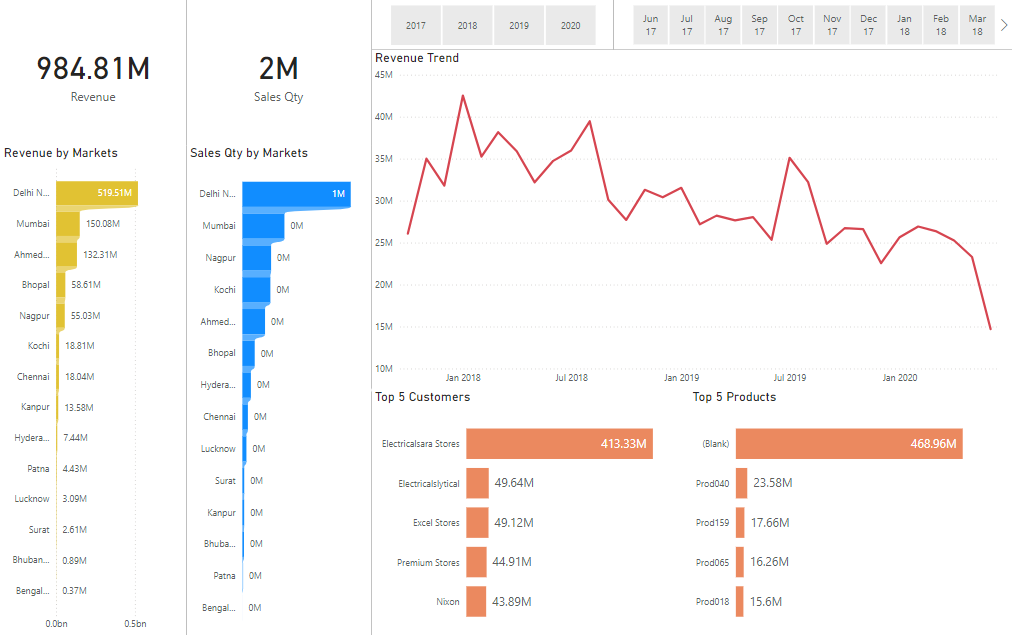

This screenshot's page, from the dashboard's own definition file:
{"tool":"powerbi","page":{"name":"Page 1","canvas":[1350,850],"ordinal":0},"visuals":[{"type":"card","fields":{"Values":["BaseMeasures (2).Revenue"]},"box":[0,0,248.3,193.3],"z":0},{"type":"card","fields":{"Values":["BaseMeasures (2).Sales Qty"]},"box":[248.3,0,246.7,193.3],"z":1000},{"type":"barChart","title":"Revenue by Markets","fields":{"Y":["BaseMeasures (2).Revenue"],"Category":["sales markets.markets_name"]},"box":[0,193.3,248.3,656.7],"z":2000},{"type":"barChart","title":"Sales Qty by Markets","fields":{"Y":["BaseMeasures (2).Sales Qty"],"Category":["sales markets.markets_name"]},"box":[248.3,193.3,246.7,656.7],"z":3000},{"type":"slicer","fields":{"Values":["sales date.year"]},"box":[495,0,323.3,66.7],"z":4000},{"type":"slicer","fields":{"Values":["sales date.cy_date"]},"box":[818.6,0,531.7,66.5],"z":5000},{"type":"barChart","title":"Top 5 Customers","fields":{"Y":["BaseMeasures (2).Revenue"],"Category":["sales customers.custmer_name"]},"box":[495,518.3,446.7,331.7],"z":6000},{"type":"barChart","title":"Top 5 Products","fields":{"Y":["BaseMeasures (2).Revenue"],"Category":["sales products.product_code"]},"box":[918.3,518.3,431.7,331.7],"z":7000},{"type":"lineChart","title":"Revenue Trend","fields":{"Y":["BaseMeasures (2).Revenue"],"Category":["sales date.cy_date"]},"box":[495,66.7,855,455],"z":8000}]}

Visuals, with their boxes in screenshot pixels (x1, y1, x2, y2), scaled from the page's 1350x850 canvas onto the 1012x635 screenshot:
card - BaseMeasures (2).Revenue: [x1=0, y1=0, x2=186, y2=144]
card - BaseMeasures (2).Sales Qty: [x1=186, y1=0, x2=371, y2=144]
"Revenue by Markets" barChart: [x1=0, y1=144, x2=186, y2=634]
"Sales Qty by Markets" barChart: [x1=186, y1=144, x2=371, y2=634]
slicer - sales date.year: [x1=371, y1=0, x2=613, y2=50]
slicer - sales date.cy_date: [x1=614, y1=0, x2=1011, y2=50]
"Top 5 Customers" barChart: [x1=371, y1=387, x2=706, y2=634]
"Top 5 Products" barChart: [x1=688, y1=387, x2=1011, y2=634]
"Revenue Trend" lineChart: [x1=371, y1=50, x2=1011, y2=390]
